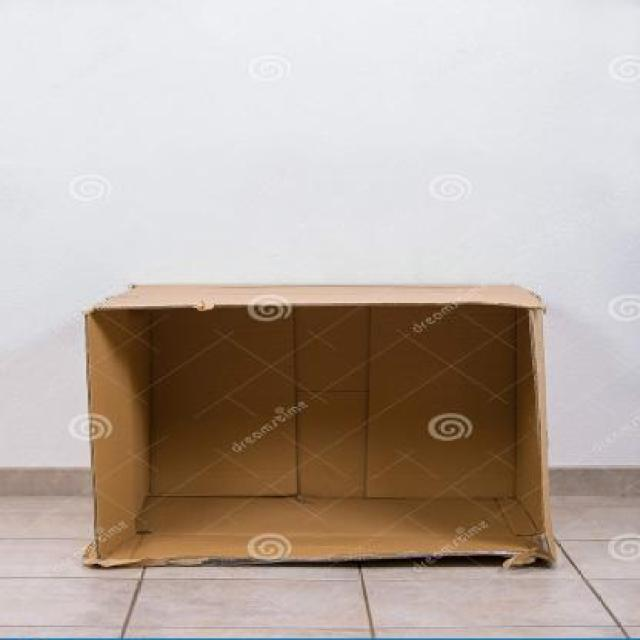box: (78, 267, 574, 582)
